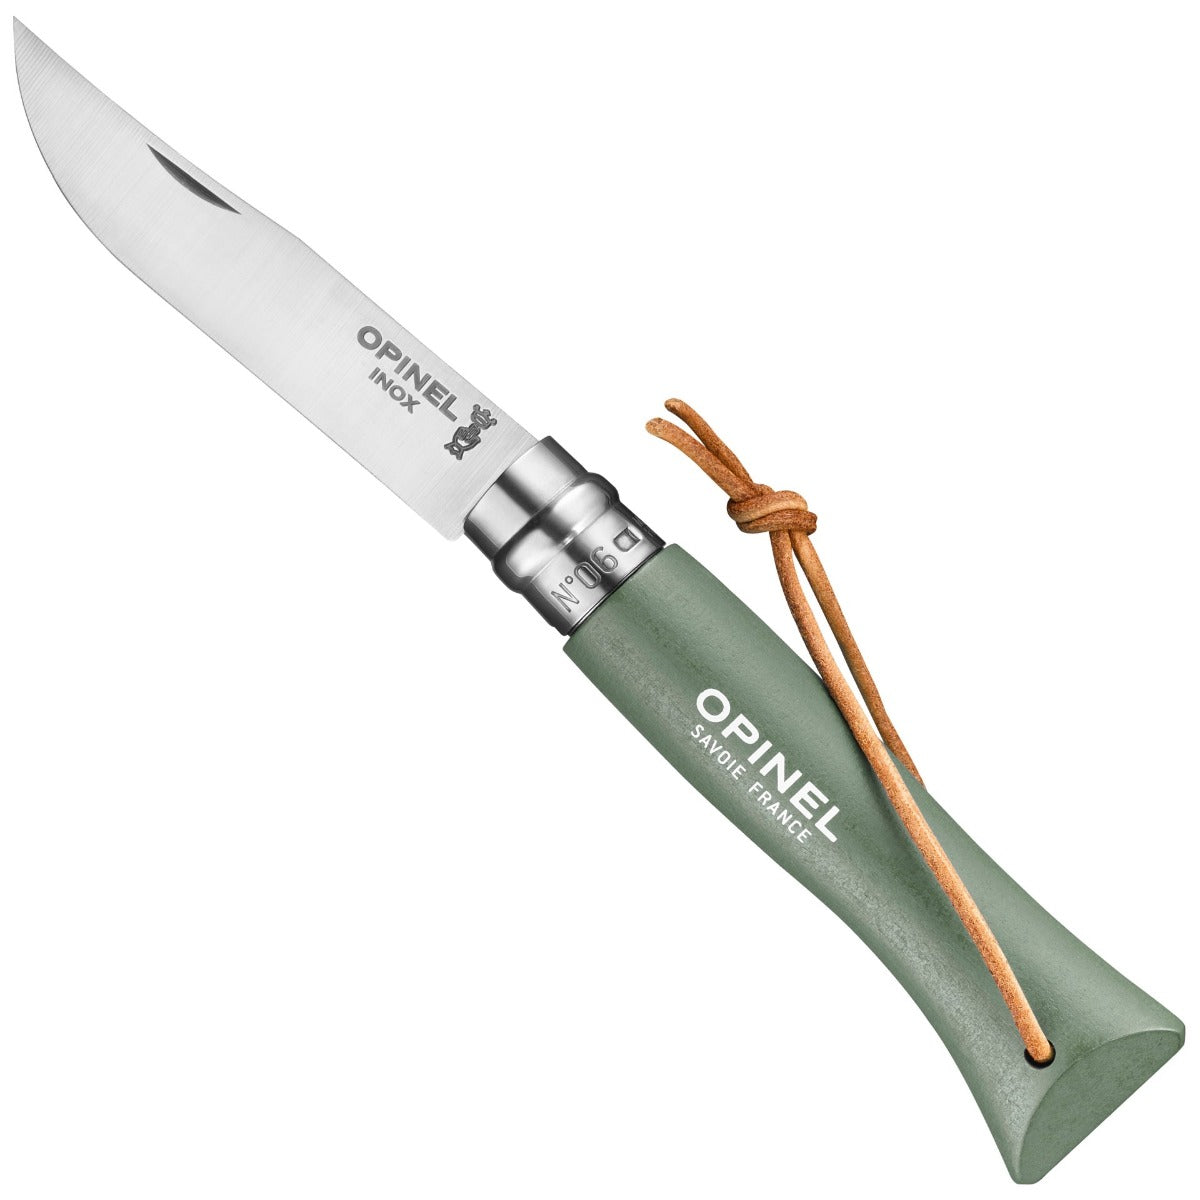knife: (4, 10, 1184, 1170)
